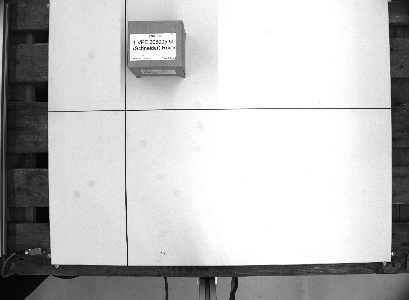b5: (125, 17, 188, 80)
